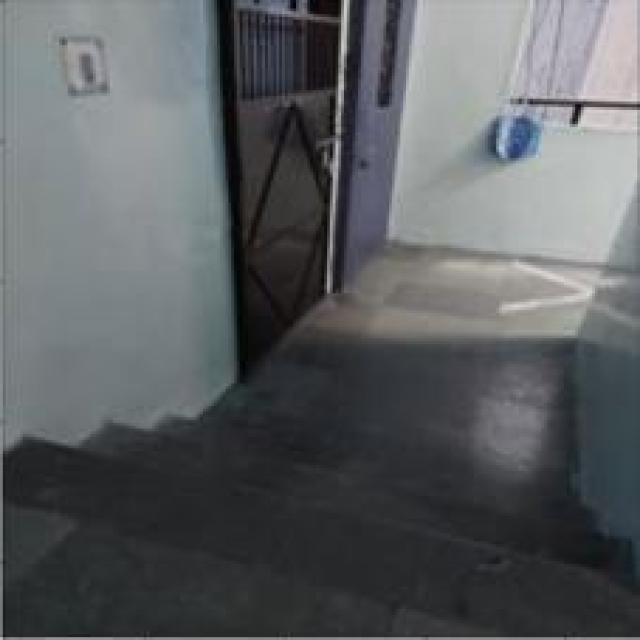downstair: (125, 379, 418, 551)
